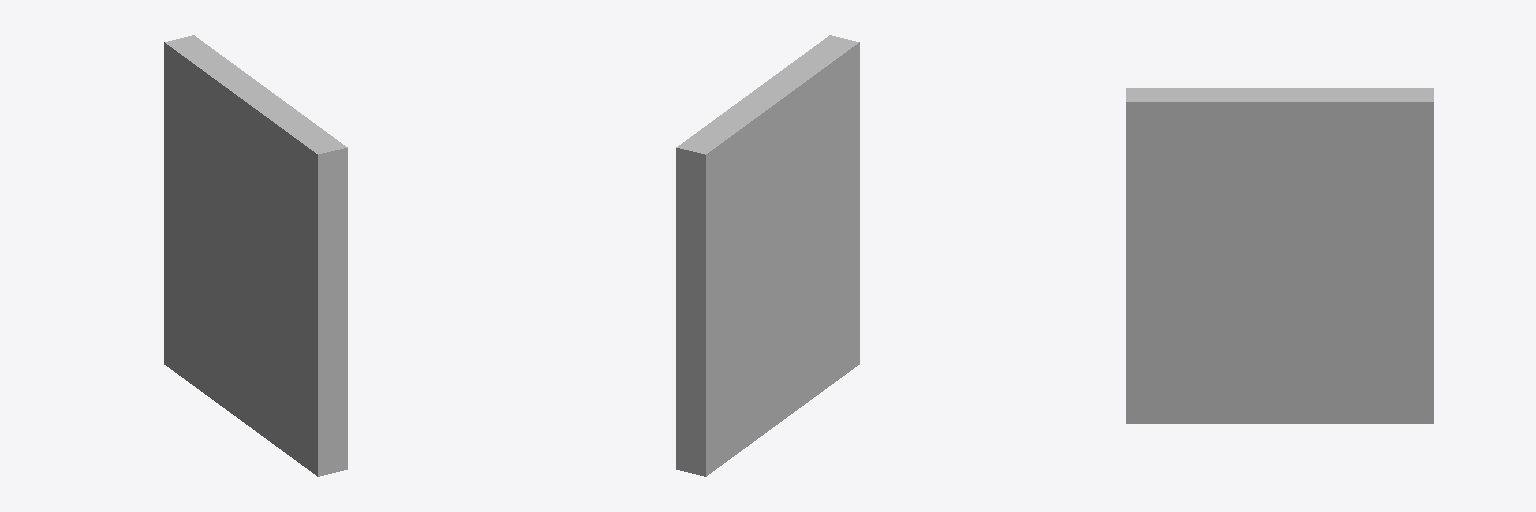
The model's file is Optical_pad.001.obj.
3 renders of one model, left to right at view 1: azimuth 30°, elevation 25°; view 2: azimuth 150°, elevation 25°; view 3: azimuth 270°, elevation 25°, orthographic.
Parts seen in each view (by area): view 1: pad.001; view 2: pad.001; view 3: pad.001.
Part boxes in pixels (left/top/right/bottom): pad.001: left=164, top=35, right=347, bottom=476; pad.001: left=676, top=35, right=859, bottom=476; pad.001: left=1126, top=88, right=1433, bottom=423.
Size of the model in its own units: 0.0042 by 0.0437 by 0.0378.